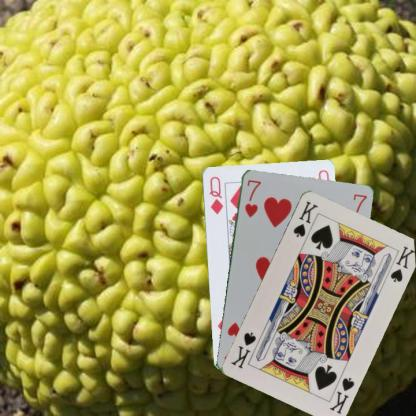7h: (242, 177, 262, 218)
Ks: (326, 374, 356, 415), (290, 198, 320, 238)
Qd: (206, 174, 224, 216)
